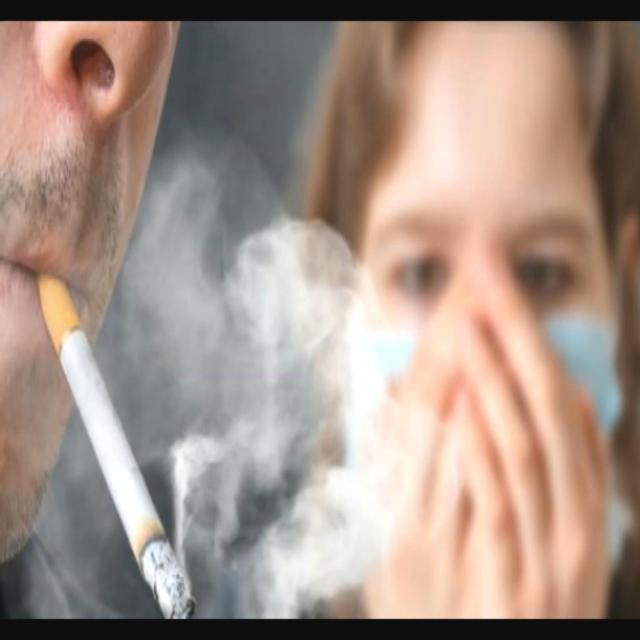cigarette: (0, 189, 195, 616)
